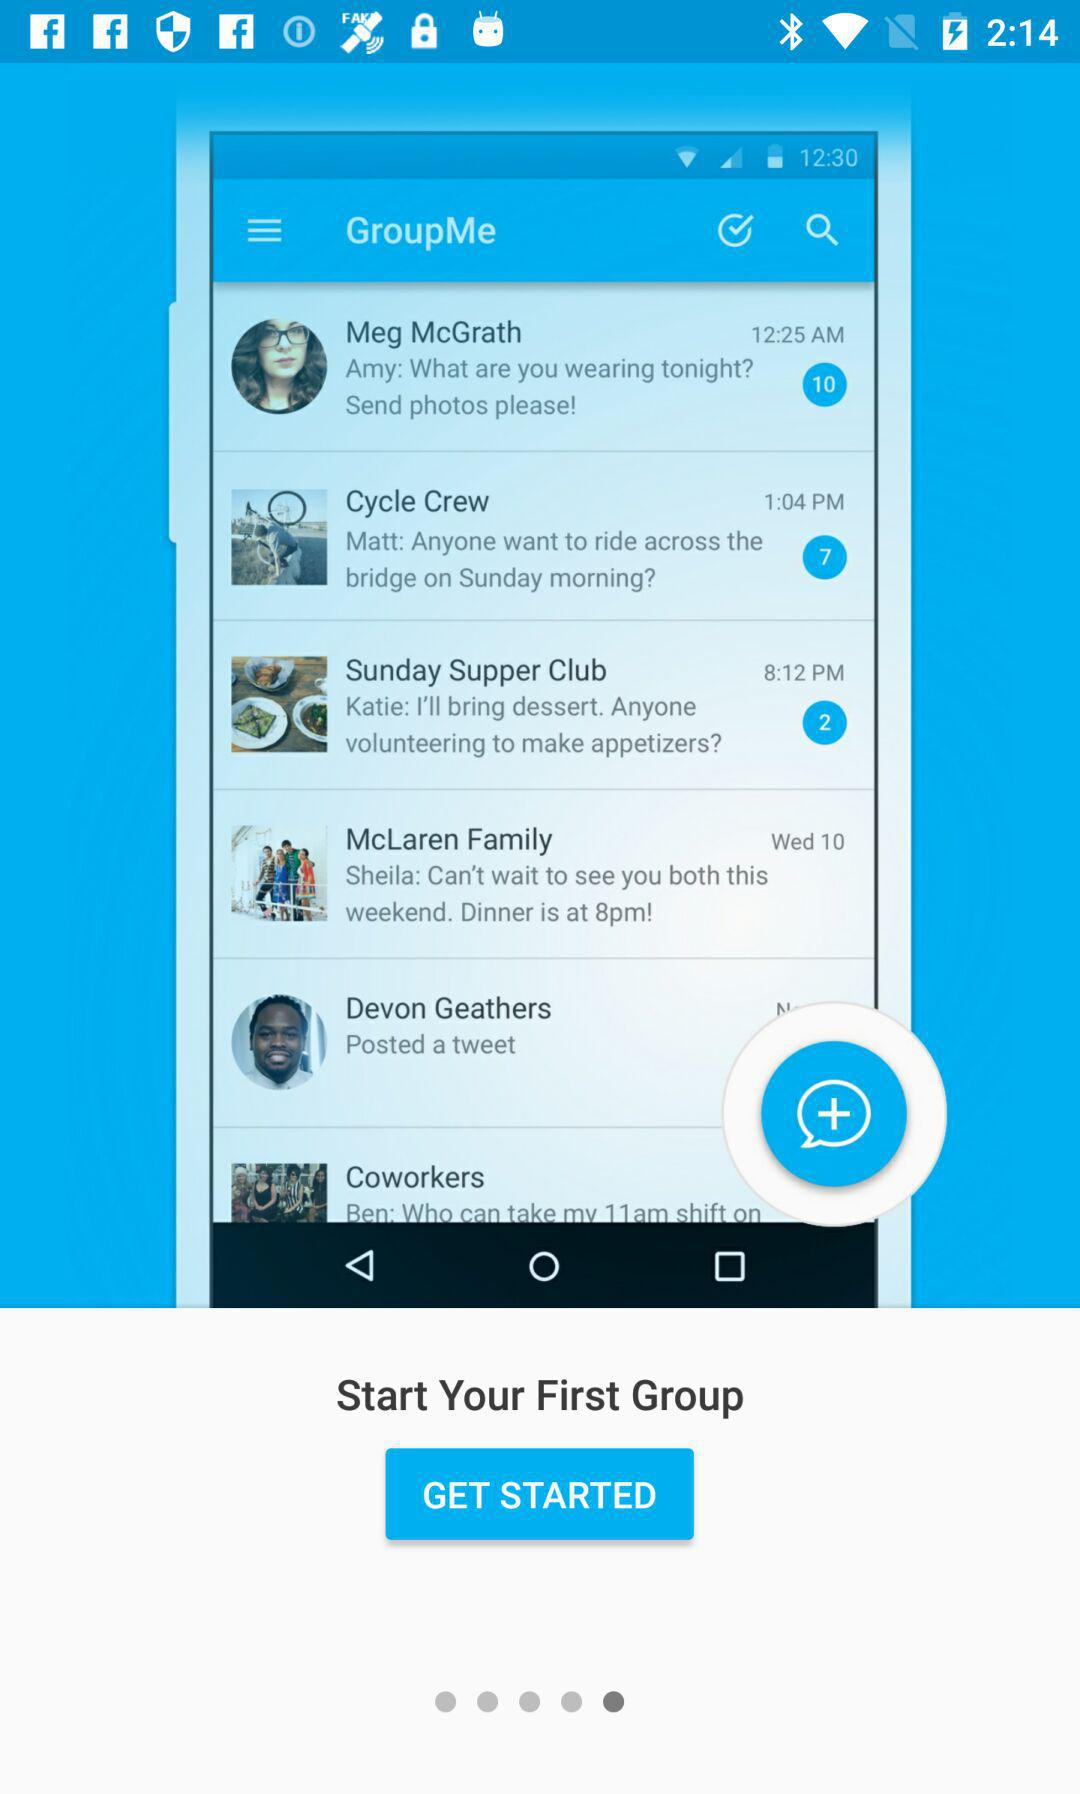Image: (167, 64, 945, 1308)
PageIndicator: (434, 1689, 626, 1715)
Text: (336, 1378, 746, 1421)
TextButton: (386, 1448, 694, 1542)
UpperTaskBar: (1, 1, 1080, 64)
